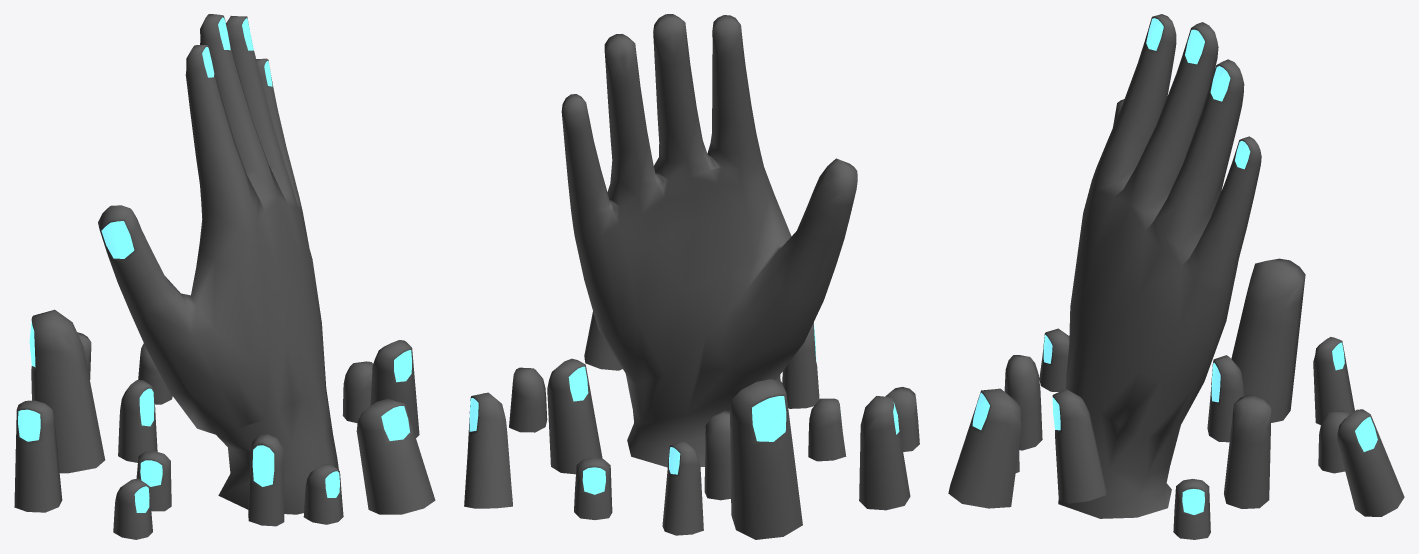
The model's file is Hand.fbx.
3 renders of one model, left to right at view 1: azimuth 30°, elevation 25°; view 2: azimuth 150°, elevation 25°; view 3: azimuth 270°, elevation 25°, orthographic. The views are drawn at different scales.
Visible parts, largest first — view 1: s.001; view 2: s.001; view 3: s.001.
Boxes of the visible parts, x1=… form: s.001: x1=14, y1=14, x2=435, y2=539; s.001: x1=464, y1=14, x2=919, y2=539; s.001: x1=948, y1=14, x2=1404, y2=539.
Size of the model in its own units: 349 by 404 by 367.
